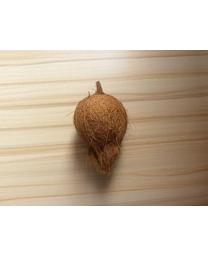coconut: (73, 93, 128, 153)
